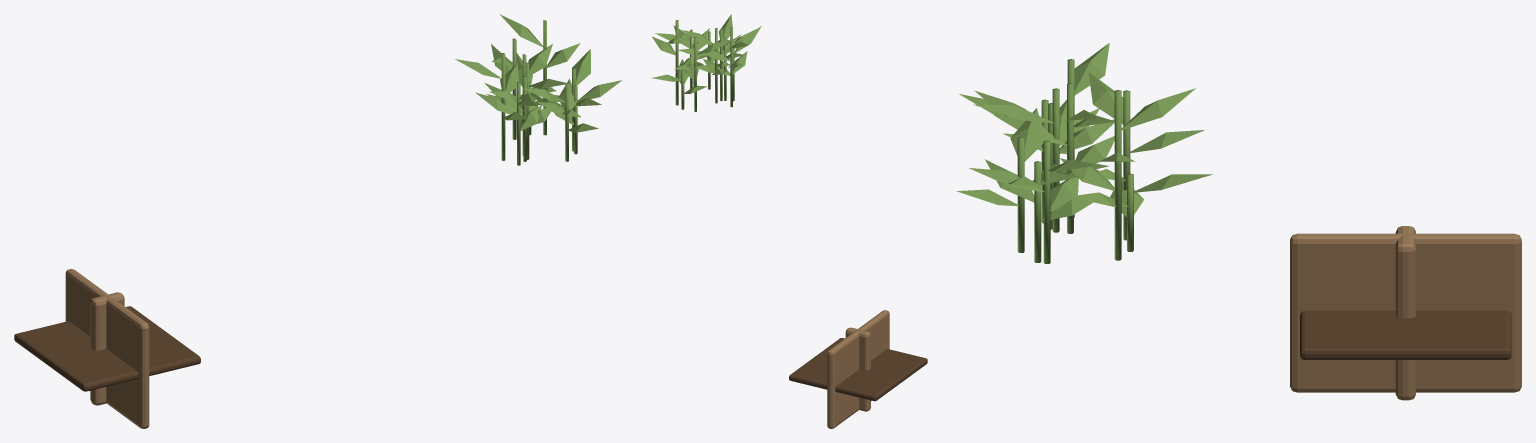
File: planter.glb
The picture shows the model from 3 angles, left to right: view 1: azimuth 30°, elevation 25°; view 2: azimuth 150°, elevation 25°; view 3: azimuth 270°, elevation 25°; orthographic projection. The views are drawn at different scales.
Visible parts, largest first — view 1: GEO-planter-209, GEO-planter-540, GEO-planter-54; view 2: GEO-planter-209, GEO-planter-540, GEO-planter-54; view 3: GEO-planter-540, GEO-planter-209, GEO-planter-54.
Part boxes in pixels (box(x1,y1,x2,y2)): GEO-planter-209: box(455, 14, 622, 165); GEO-planter-540: box(65, 269, 149, 428); GEO-planter-54: box(14, 306, 200, 391); GEO-planter-209: box(651, 14, 761, 111); GEO-planter-540: box(827, 310, 889, 428); GEO-planter-54: box(789, 338, 927, 401); GEO-planter-540: box(1290, 226, 1521, 400); GEO-planter-209: box(956, 43, 1212, 263); GEO-planter-54: box(1300, 310, 1511, 359).
Size of the model in its own units: 1.19 by 0.95 by 0.89.
